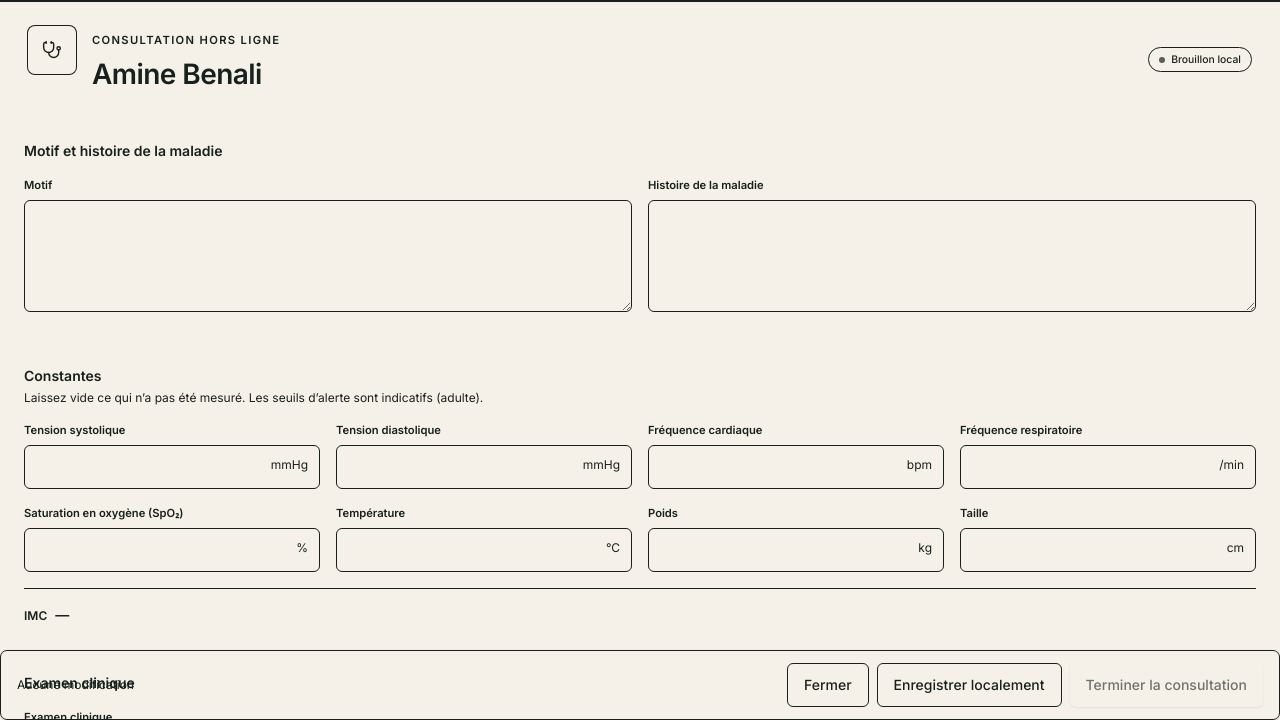
Test case: finishing the consultation › needs clinical content
Check: the button "Terminer la consultation" is disabled, box left=1070, top=663, right=1263, bottom=707
In the text box labelled "Motif": (328, 256) left=24, top=200, right=632, bottom=312, type "Toux"
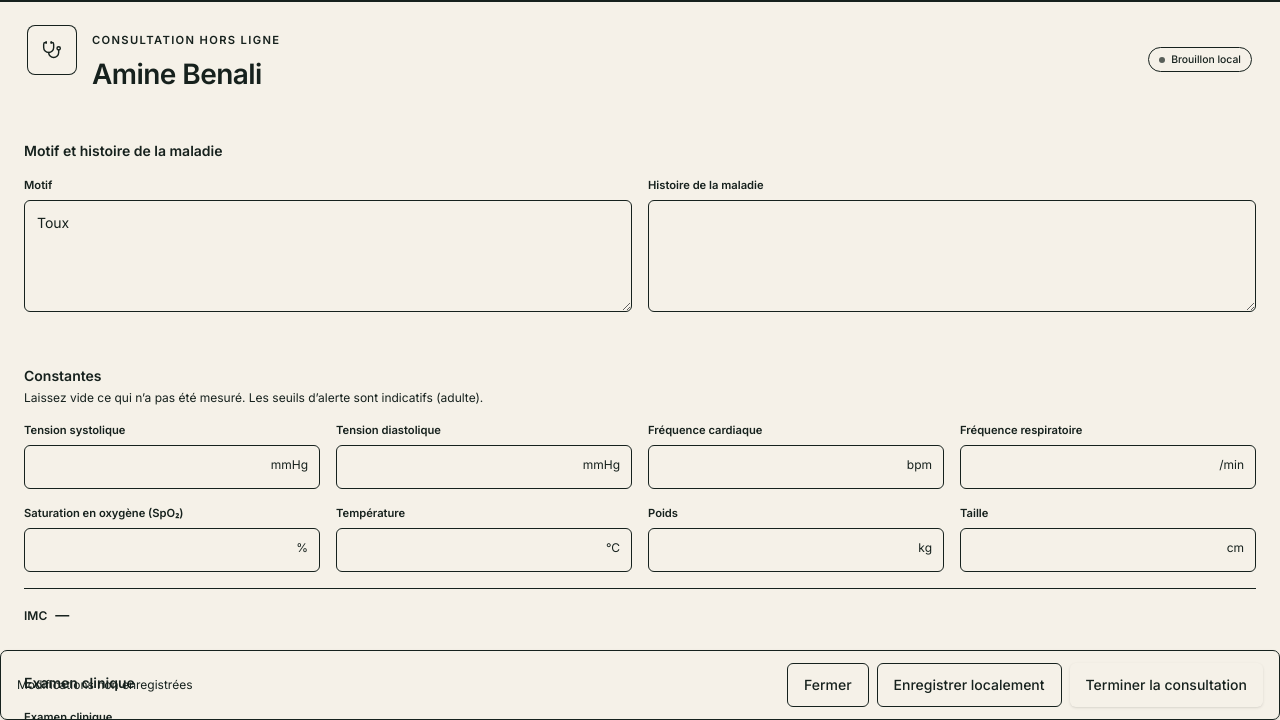
Check: the button "Terminer la consultation" is enabled, box left=1070, top=663, right=1263, bottom=707
